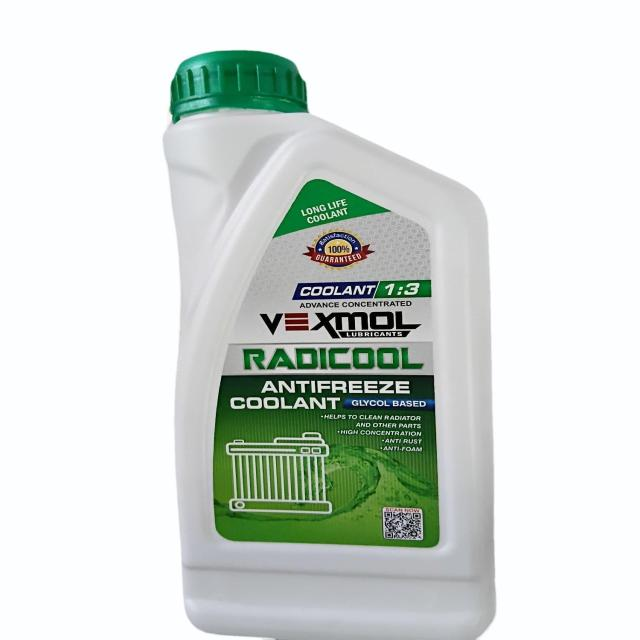coolant: (161, 47, 507, 639)
